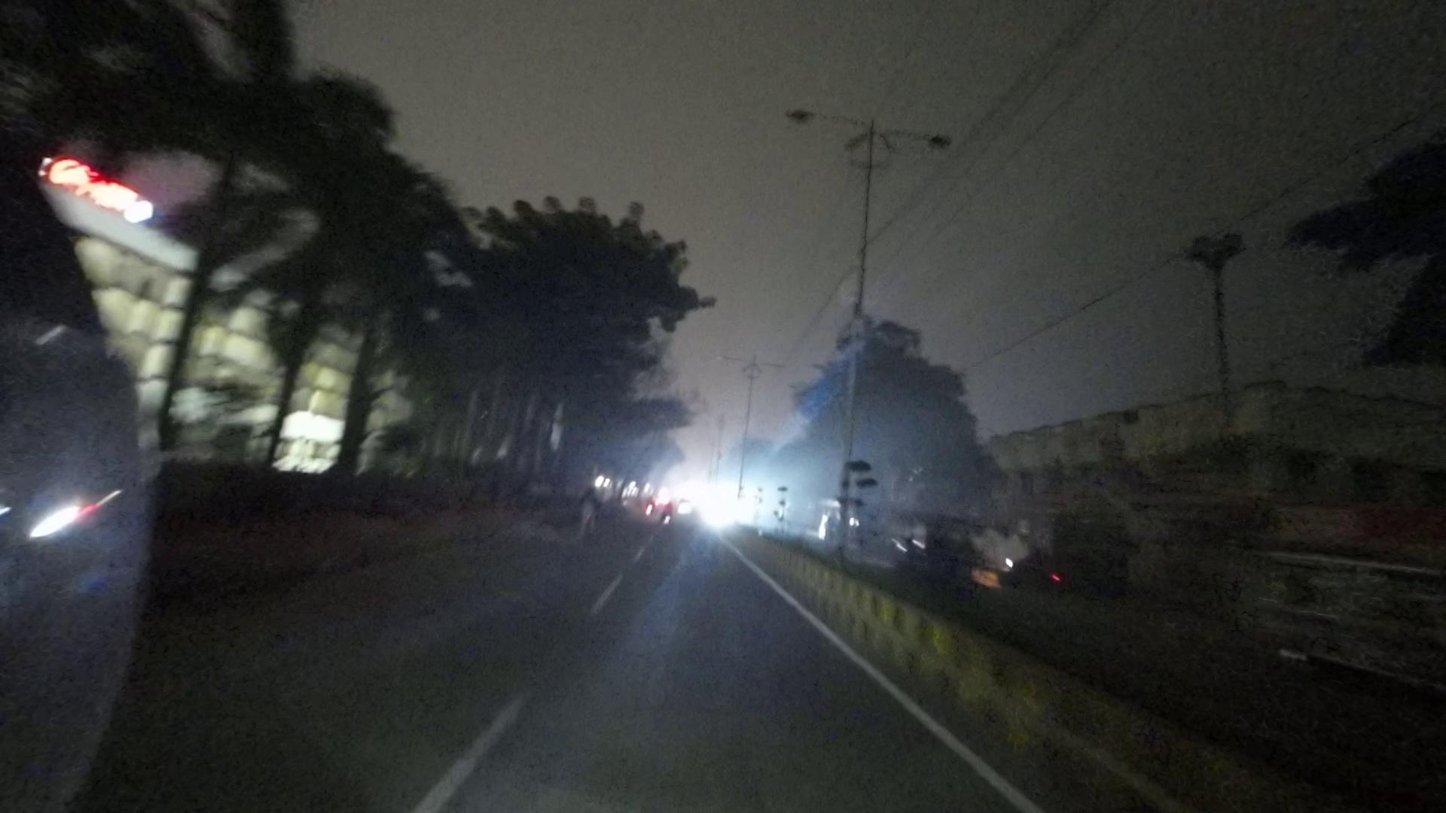streetlight: (786, 106, 866, 131), (884, 123, 958, 150)
